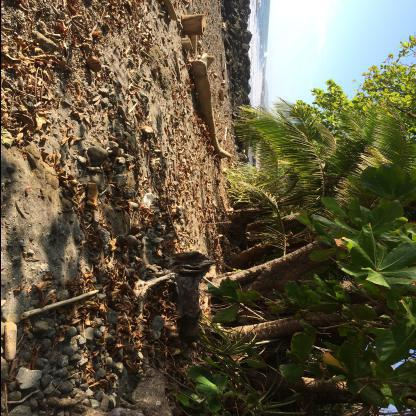plastik: (141, 194, 155, 210)
